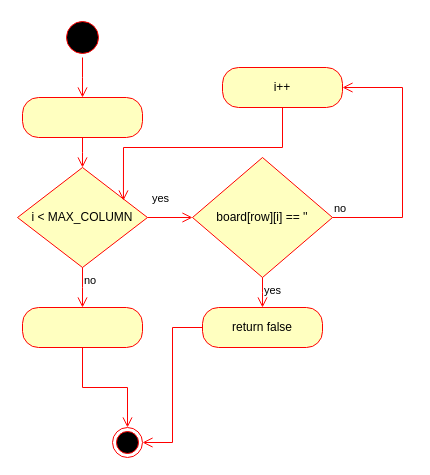
Image size: 430x475. Some labels were removed from this diagram. The centre of each missing label's shape, as x and y in pixels:
"i = 0 row = 0" goes at point 82,117.
"return true" goes at point 82,327.
